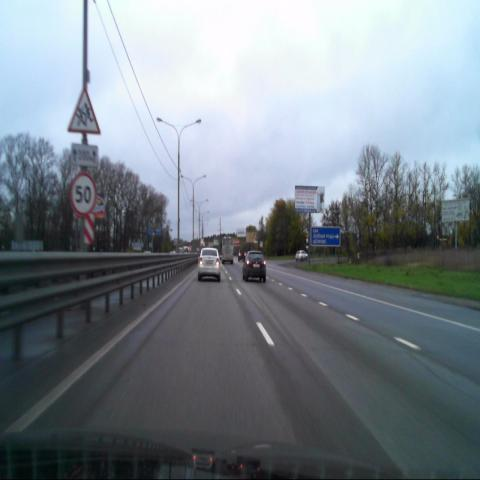8_2_1: (71, 142, 99, 168)
